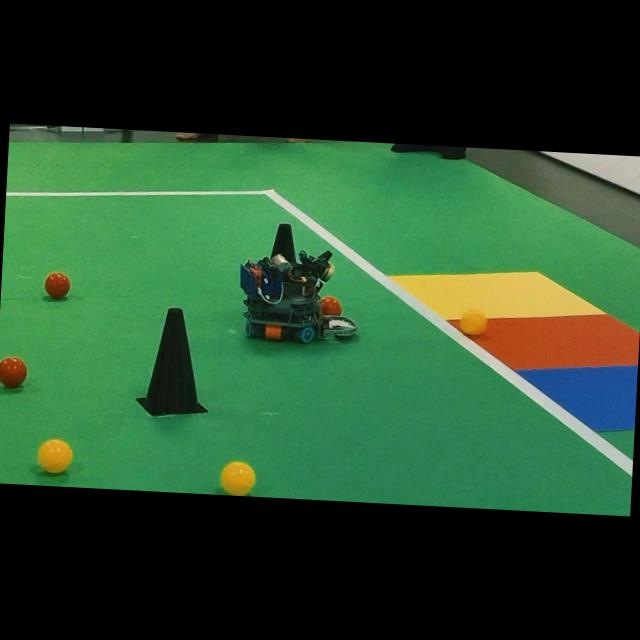ball: (221, 462, 256, 496), (37, 440, 73, 473), (0, 356, 27, 388), (460, 309, 488, 335), (45, 272, 70, 299), (321, 295, 342, 315)
goal: (390, 273, 605, 320), (471, 314, 640, 370), (518, 365, 637, 431)
